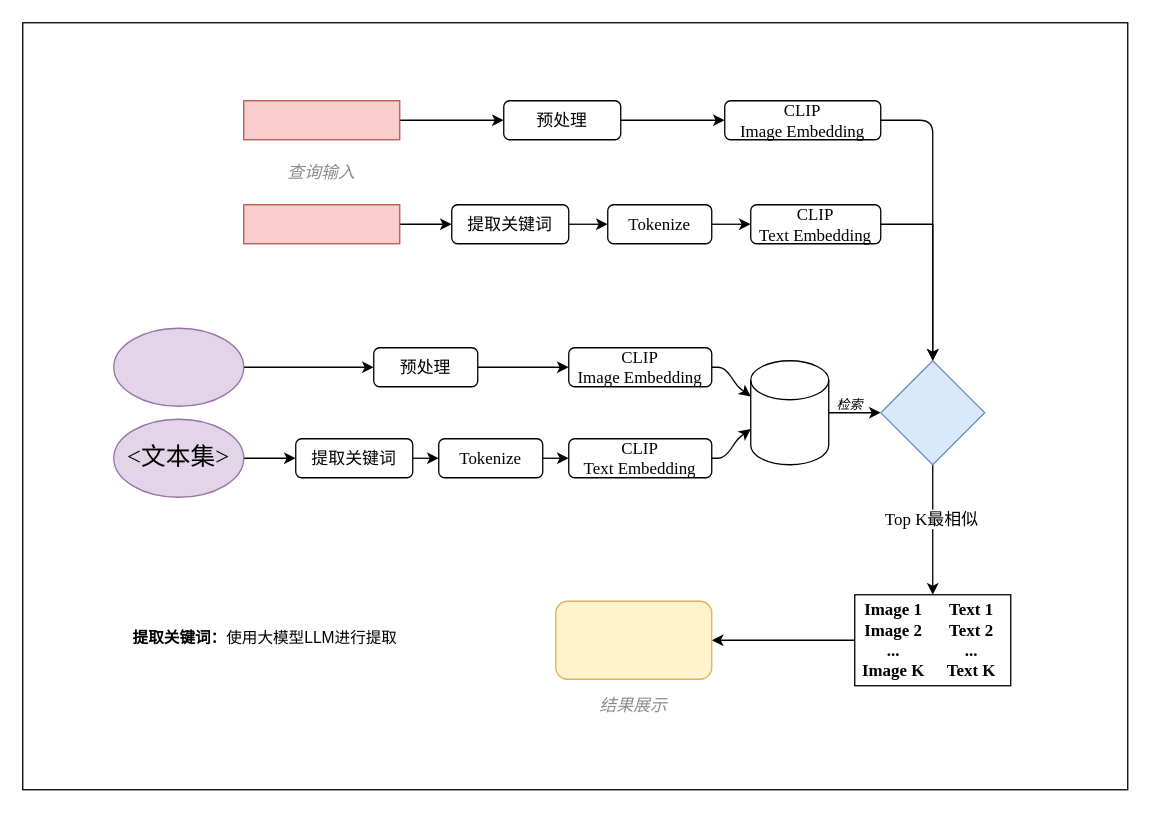
This 1151x813 diagram has some shape labels left out. Here are the shapes that lost their labels. From the top down, the centre of each, then its label:
At (x=321, y=119): "<查询图片>".
At (x=321, y=223): "<查询文本>".
At (x=178, y=366): "<图片集>".
At (x=789, y=412): "Qdrant 数据库".
At (x=932, y=412): "计算相似度".
At (x=633, y=639): "前端展示".
